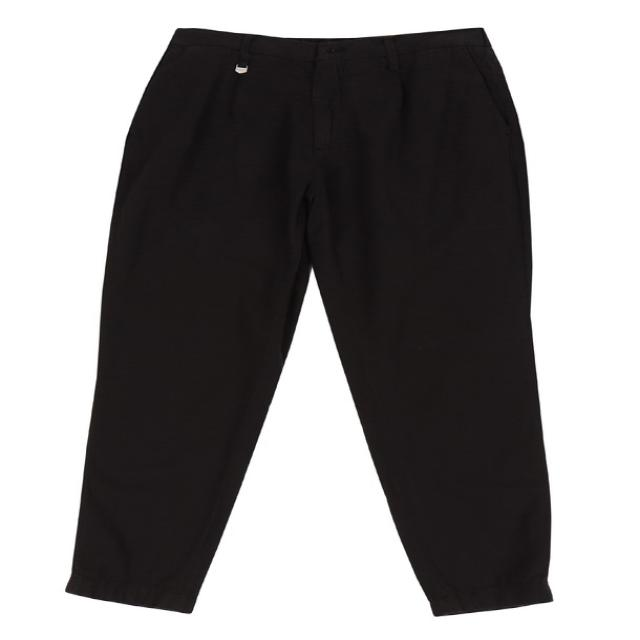pants: (59, 24, 561, 620)
